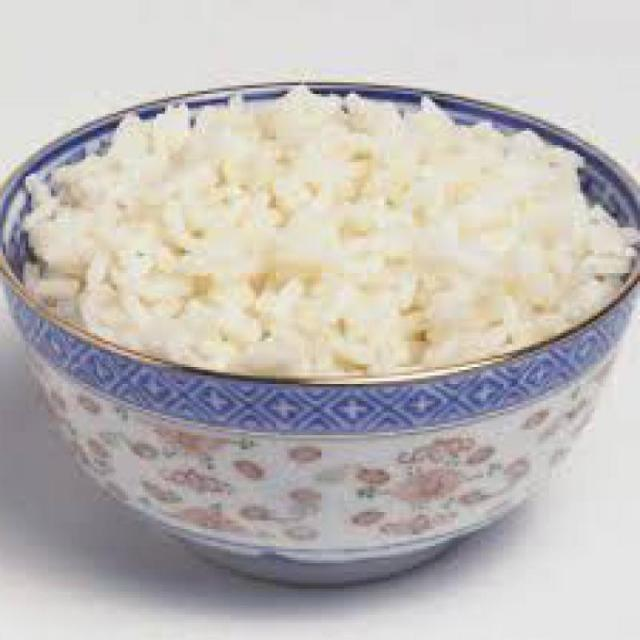nasi_putih: (20, 90, 634, 380)
